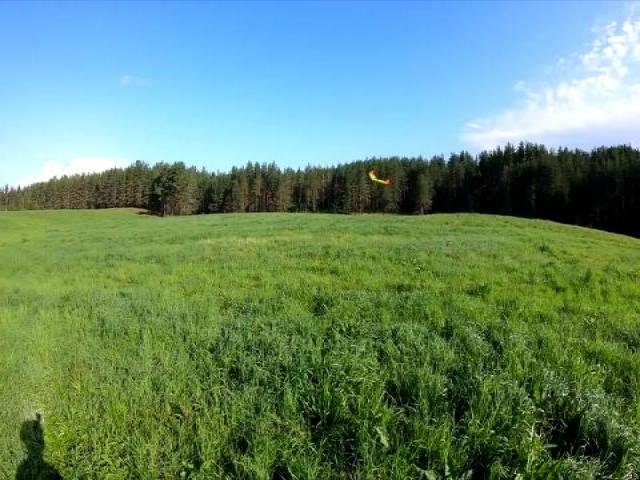flying wing: (367, 167, 392, 188)
